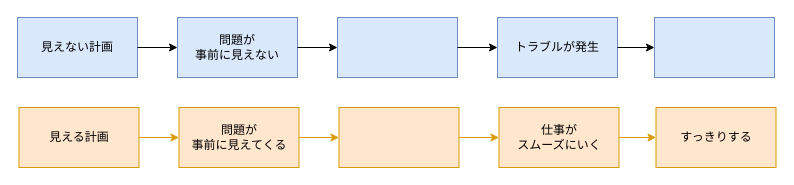
This 794x185 diagram has some shape labels left out. The shapes that lost their labels are listed below. From the top down, each one's centre as x and y in pixels, then its label:
pixel 397 47: 個人で問題を かかえ込む
pixel 714 47: もやもやする
pixel 398 137: チーム力の発揮
